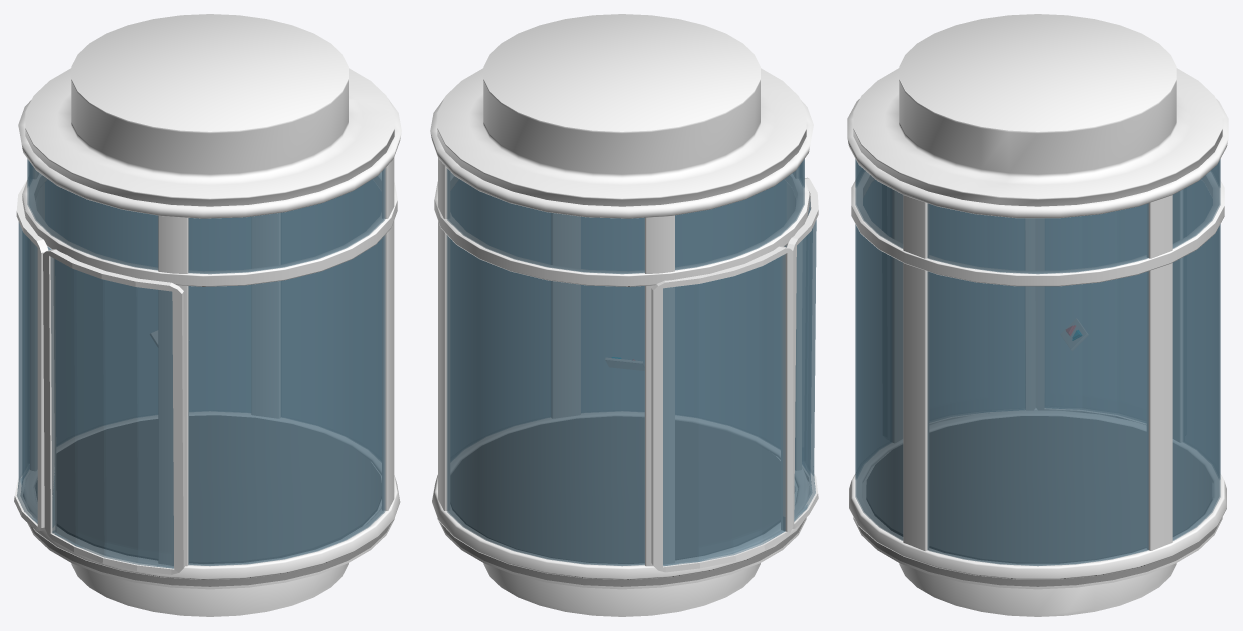
The model's file is Elevator_fat.fbx.
3 views of the same model, side by side, from view 1: azimuth 30°, elevation 25°; view 2: azimuth 150°, elevation 25°; view 3: azimuth 270°, elevation 25° (orthographic).
Parts seen in each view (by area): view 1: Elevator_04_Elevator_Main2, Elevator_04_L_ElevatorDoor1, Elevator_04_R_ElevatorDoor1; view 2: Elevator_04_Elevator_Main2, Elevator_04_R_ElevatorDoor1, Elevator_04_L_ElevatorDoor1; view 3: Elevator_04_Elevator_Main2, Elevator_04_R_ElevatorDoor1, Elevator_04_L_ElevatorDoor1.
Boxes of the visible parts, x1,y1,x2,y2 form: Elevator_04_Elevator_Main2: (18,14,401,616); Elevator_04_L_ElevatorDoor1: (43,249,185,574); Elevator_04_R_ElevatorDoor1: (14,180,48,531); Elevator_04_Elevator_Main2: (430,14,813,616); Elevator_04_R_ElevatorDoor1: (651,246,793,572); Elevator_04_L_ElevatorDoor1: (787,177,818,528); Elevator_04_Elevator_Main2: (847,14,1228,616); Elevator_04_R_ElevatorDoor1: (1035,204,1146,424); Elevator_04_L_ElevatorDoor1: (929,204,1035,424).
Size of the model in its own units: 2.97 by 4.11 by 2.93.
